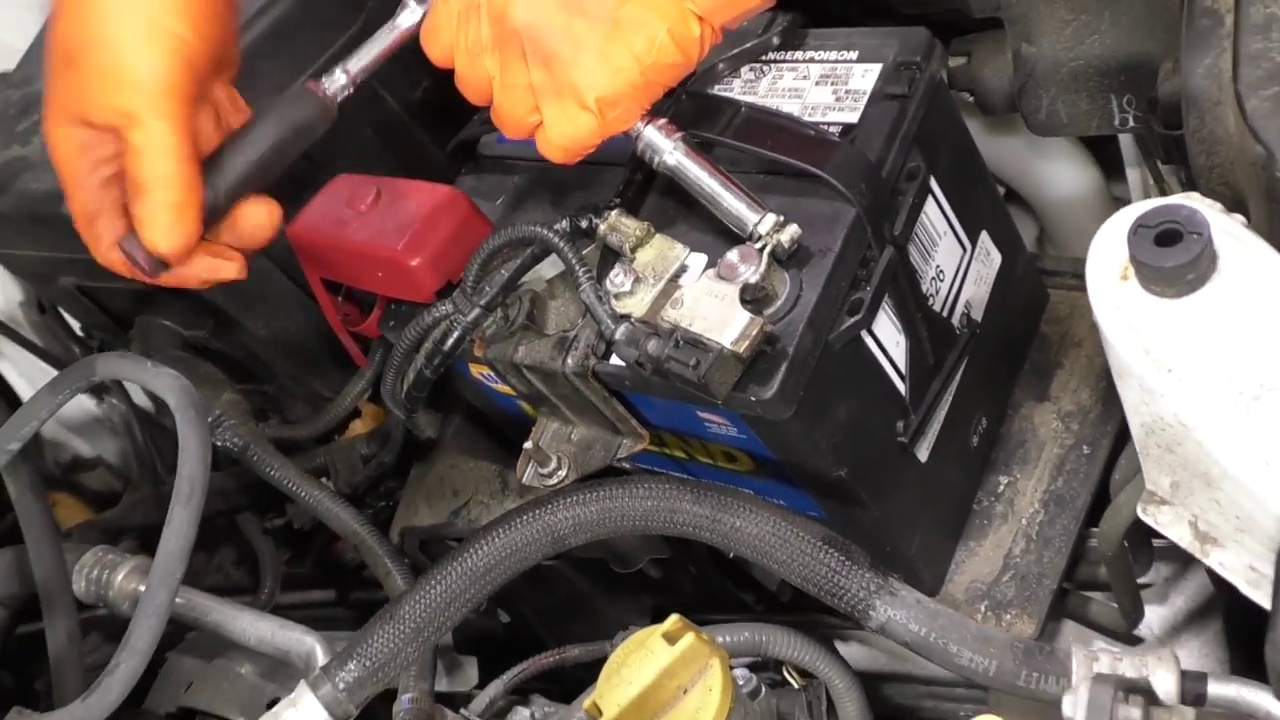battery: (394, 15, 916, 408)
neg_connected: (641, 222, 795, 363)
pos_connected: (271, 155, 493, 371)
pos_touched: (40, 91, 494, 345)
